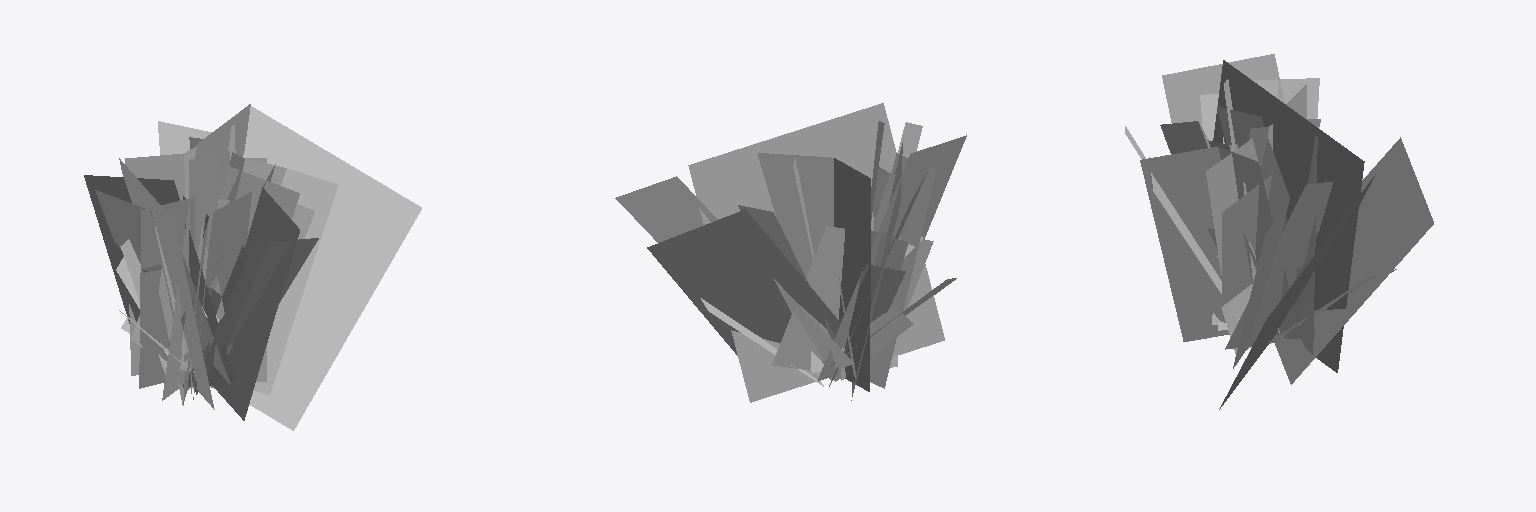
The model's file is grass field.obj.
3 views of the same model, side by side, from view 1: azimuth 30°, elevation 25°; view 2: azimuth 150°, elevation 25°; view 3: azimuth 270°, elevation 25° (orthographic).
Parts seen in each view (by area): view 1: long_IMG_[number redacted]_180135_895.002; view 2: long_IMG_[number redacted]_180135_895.002; view 3: long_IMG_[number redacted]_180135_895.002.
Boxes of the visible parts, box(x1,y1,x2,y2) form: long_IMG_[number redacted]_180135_895.002: box(84, 104, 421, 430); long_IMG_[number redacted]_180135_895.002: box(615, 103, 966, 402); long_IMG_[number redacted]_180135_895.002: box(1125, 54, 1433, 409).
Size of the model in its own units: 3.61 by 3.32 by 3.02.